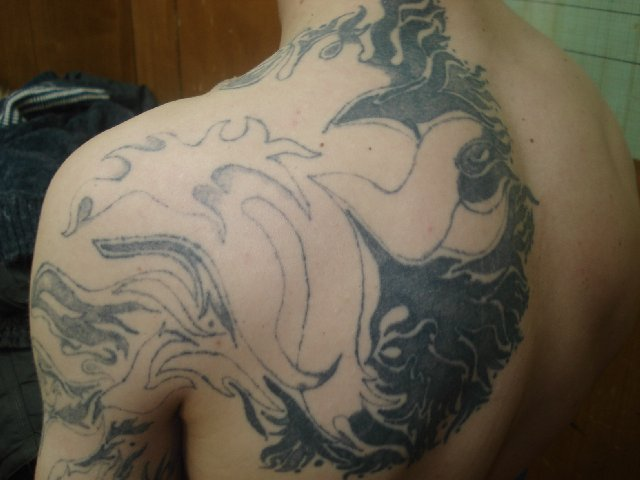tatu6_drakon: (31, 10, 585, 461)
